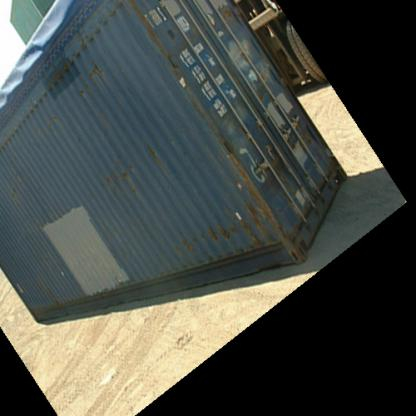Damage: (175, 205, 272, 244), (96, 158, 138, 189), (76, 60, 105, 100), (142, 139, 162, 167), (38, 281, 60, 304)
